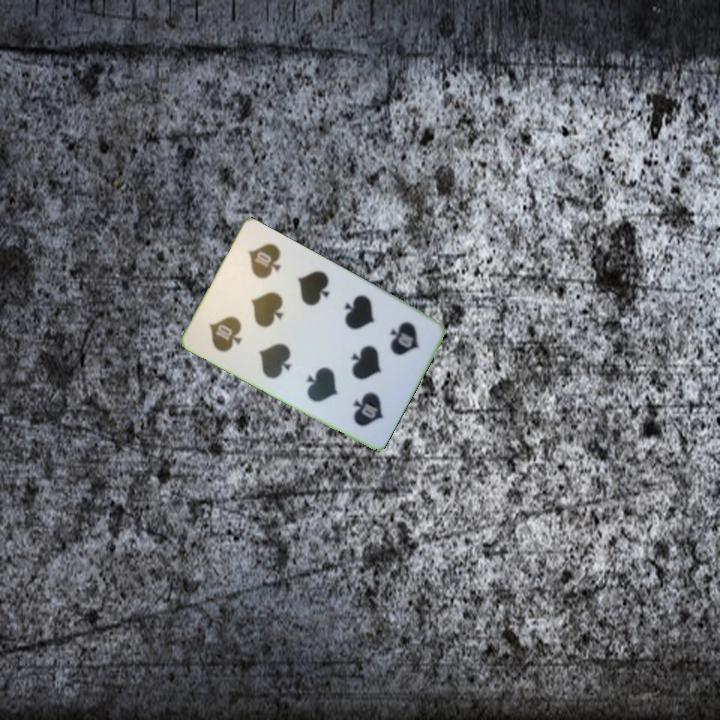s_10.png: (355, 303, 436, 387), (191, 283, 272, 367)
